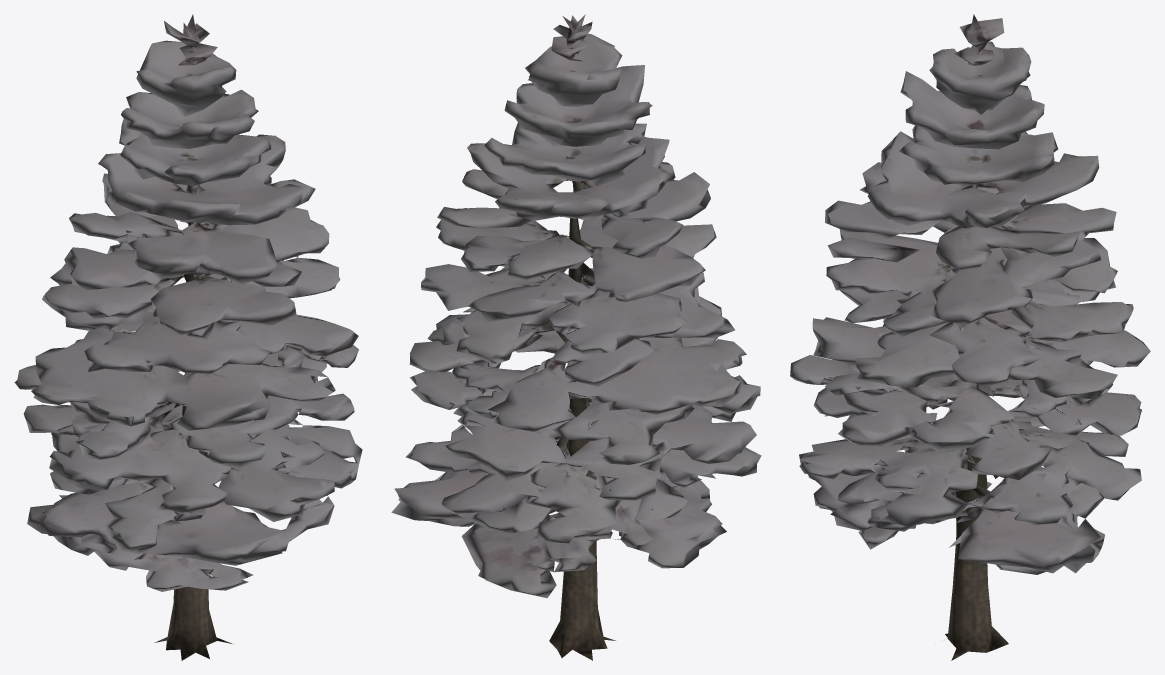
The model's file is darkpine.glb.
The picture shows the model from 3 angles, left to right: view 1: azimuth 30°, elevation 25°; view 2: azimuth 150°, elevation 25°; view 3: azimuth 270°, elevation 25°; orthographic projection.
Visible parts, largest first — view 1: geometry_0; view 2: geometry_0; view 3: geometry_0.
Part boxes in pixels (x1=…): geometry_0: x1=14, y1=14, x2=362, y2=660; geometry_0: x1=391, y1=14, x2=761, y2=660; geometry_0: x1=790, y1=14, x2=1150, y2=660.
Bounding box in the file's own units: 0.4987 × 0.9734 × 0.5066.
Materials: 1 (1 with a texture image).
